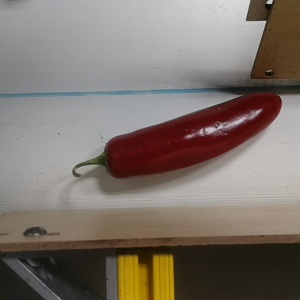Cut Point: (95, 135, 123, 182)
